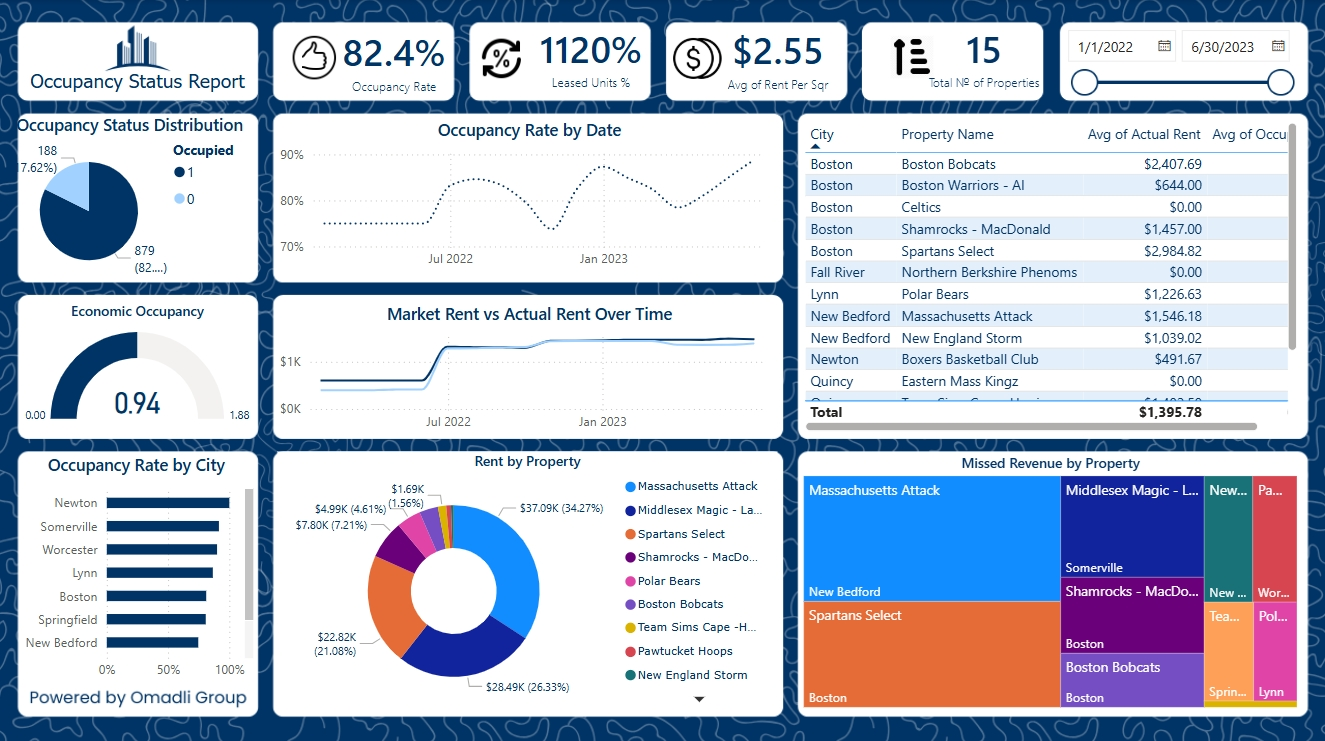

What the dashboard file says about the page in this screenshot:
{"tool":"powerbi","page":{"name":"Occupancy Summary","canvas":[1280,720],"ordinal":0},"visuals":[{"type":"card","fields":{"Values":["unit_status.Occupancy Rate"]},"box":[294.4,7.2,172.5,102.5],"z":0},{"type":"gauge","fields":{"Y":["unit_status.Economic Occupancy"]},"box":[14.5,292,236.5,130.3],"z":1000},{"type":"card","fields":{"Values":["unit_status.Leased Units %"]},"box":[431.9,7.2,277.5,96.5],"z":2000},{"type":"lineChart","title":"Occupancy Rate by Date","fields":{"Y":["unit_status.Occupancy Rate"],"Category":["date.Year2020.Variation.Date Hierarchy.Year","date.Year2020.Variation.Date Hierarchy.Quarter","date.Year2020.Variation.Date Hierarchy.Month","date.Year2020.Variation.Date Hierarchy.Day"]},"box":[265.4,114.6,491,154.4],"z":3000},{"type":"lineChart","title":"Market Rent vs Actual Rent Over Time","fields":{"Category":["date.Year2020.Variation.Date Hierarchy.Year","date.Year2020.Variation.Date Hierarchy.Quarter","date.Year2020.Variation.Date Hierarchy.Month","date.Year2020.Variation.Date Hierarchy.Day"],"Y":["Avg(unit_status.actual_rent)","Avg(unit_status.market_rent)"]},"box":[265.4,292,491,133.9],"z":4000},{"type":"donutChart","title":"Rent by Property","fields":{"Category":["property.property_name"],"Y":["Sum(unit_status.rent_variance)"]},"box":[267.8,436.7,482.6,252.1],"z":5000},{"type":"card","fields":{"Values":["Avg(unit_status.rent per sqr)"]},"box":[644.2,8.4,213.5,96.5],"z":6000},{"type":"slicer","fields":{"Values":["date.Year2020"]},"box":[1018.2,6,238.9,101.3],"z":7000},{"type":"card","fields":{"Values":["property.Total Property"]},"box":[887.9,4.8,124.3,101.3],"z":8000},{"type":"tableEx","fields":{"Values":["property.city","property.property_name","Avg(unit_status.actual_rent)","Avg(unit_status.is_occupied)"]},"box":[770.9,114.6,486.2,307.6],"z":9000},{"type":"textbox","box":[14.5,62.7,236.5,42.2],"z":10000},{"type":"image","box":[260.6,29,85.7,55.5],"z":11000},{"type":"image","box":[442.8,29,82,56.7],"z":12000},{"type":"image","box":[626.1,25.3,92.9,63.9],"z":13000},{"type":"pieChart","title":"Occupancy Status Distribution","fields":{"Y":["CountNonNull(unit_status.unit_id)"],"Category":["unit_status.is_occupied"]},"box":[0,110,250,168.8],"z":14000},{"type":"image","box":[854.2,30.2,51.9,51.9],"z":15000},{"type":"treemap","title":"Missed Revenue by Property","fields":{"Group":["property.Property Name"],"Details":["property.City"],"Values":["Sum(unit_status.missed_revenue)"]},"box":[770.9,437.9,486.2,250.9],"z":16000},{"type":"barChart","fields":{"Category":["property.City"],"Y":["unit_status.Occupancy Rate"]},"box":[13.8,437.5,236.2,227.5],"z":17000}]}

Visuals, with their boxes in screenshot pixels (x1, y1, x2, y2), scaled from the page's 1280x720 canvas onto the 1325x741 screenshot:
card - unit_status.Occupancy Rate: 305 7 483 113
gauge - unit_status.Economic Occupancy: 15 301 260 435
card - unit_status.Leased Units %: 447 7 734 107
"Occupancy Rate by Date" lineChart: 275 118 783 277
"Market Rent vs Actual Rent Over Time" lineChart: 275 301 783 438
"Rent by Property" donutChart: 277 449 777 709
card - Avg(unit_status.rent per sqr): 667 9 888 108
slicer - date.Year2020: 1054 6 1301 110
card - property.Total Property: 919 5 1048 109
tableEx - property.city x property.property_name: 798 118 1301 435
textbox: 15 65 260 108
image: 270 30 358 87
image: 458 30 543 88
image: 648 26 744 92
"Occupancy Status Distribution" pieChart: 0 113 259 287
image: 884 31 938 84
"Missed Revenue by Property" treemap: 798 451 1301 709
barChart - property.City x unit_status.Occupancy Rate: 14 450 259 684
